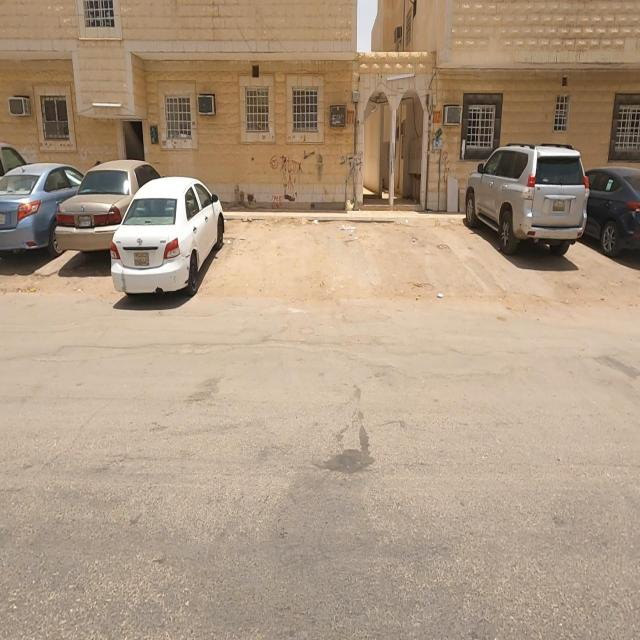Graffiti: (271, 155, 303, 189), (442, 152, 450, 188), (271, 196, 285, 210), (357, 151, 364, 176)
